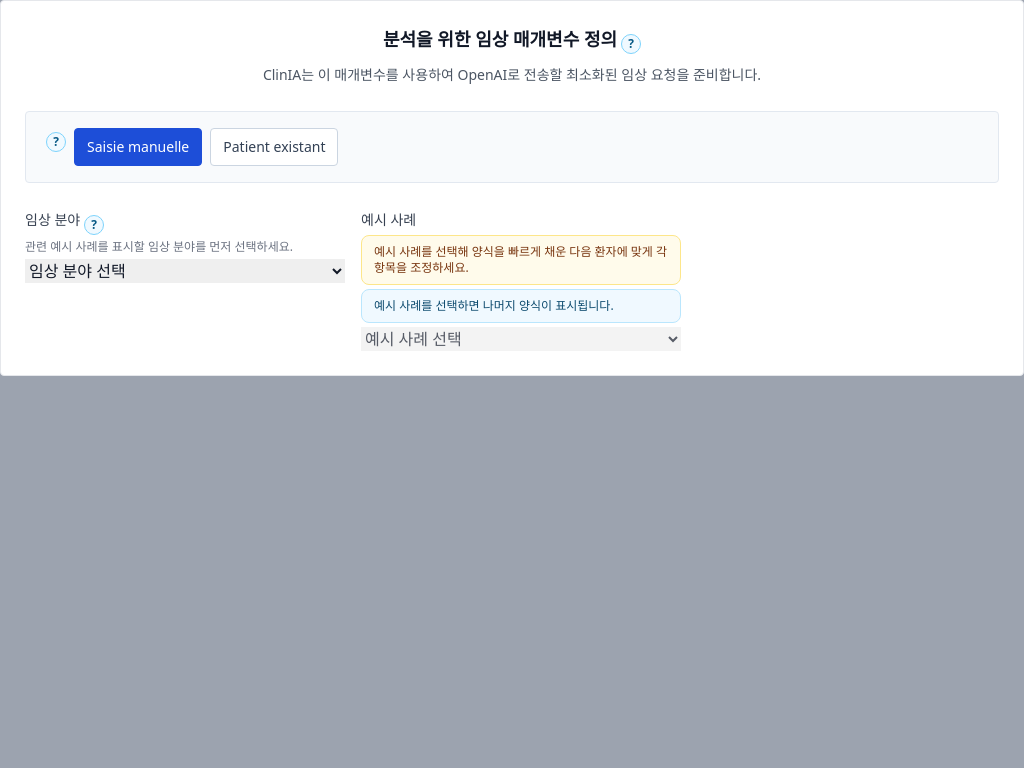
Test case: ClinicalForm › keeps the hypertension example medical terms in English for ko-KR
Select "일반 의학" in the dropdown with id "clinical-field" at (185, 271), box [25,259,345,283]
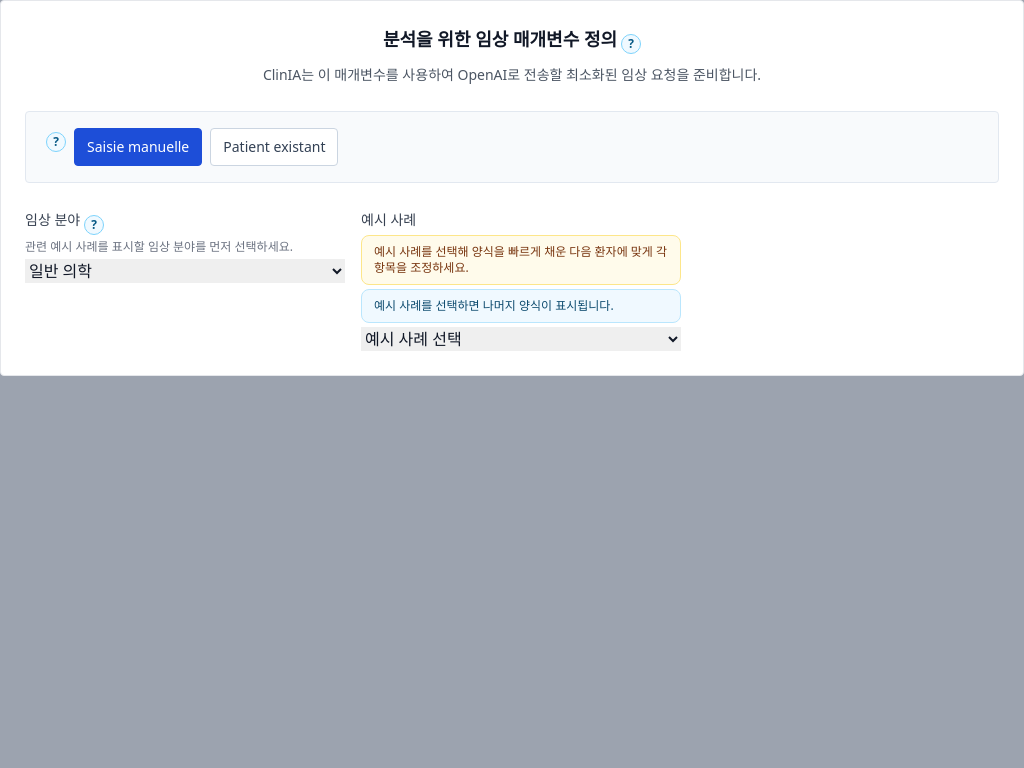
Select "Hypertension" in the dropdown with id "clinical-example-case" at (521, 339), box [361,327,681,351]
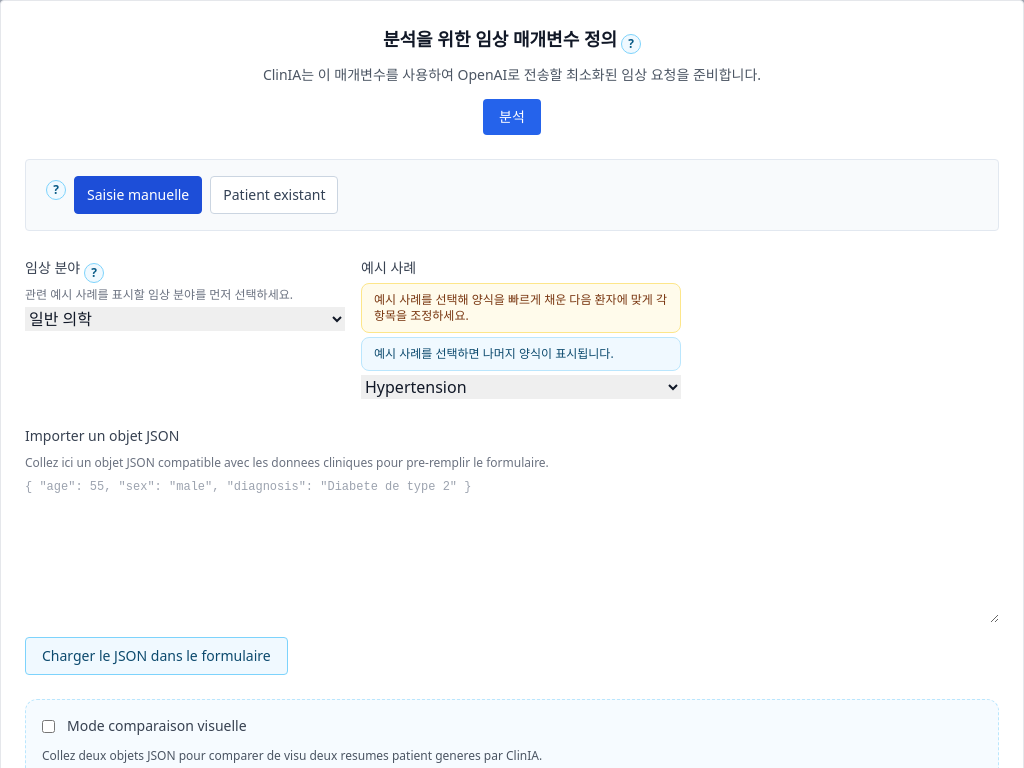
Check: the button "분석" is shown, box [483,99,541,135]
